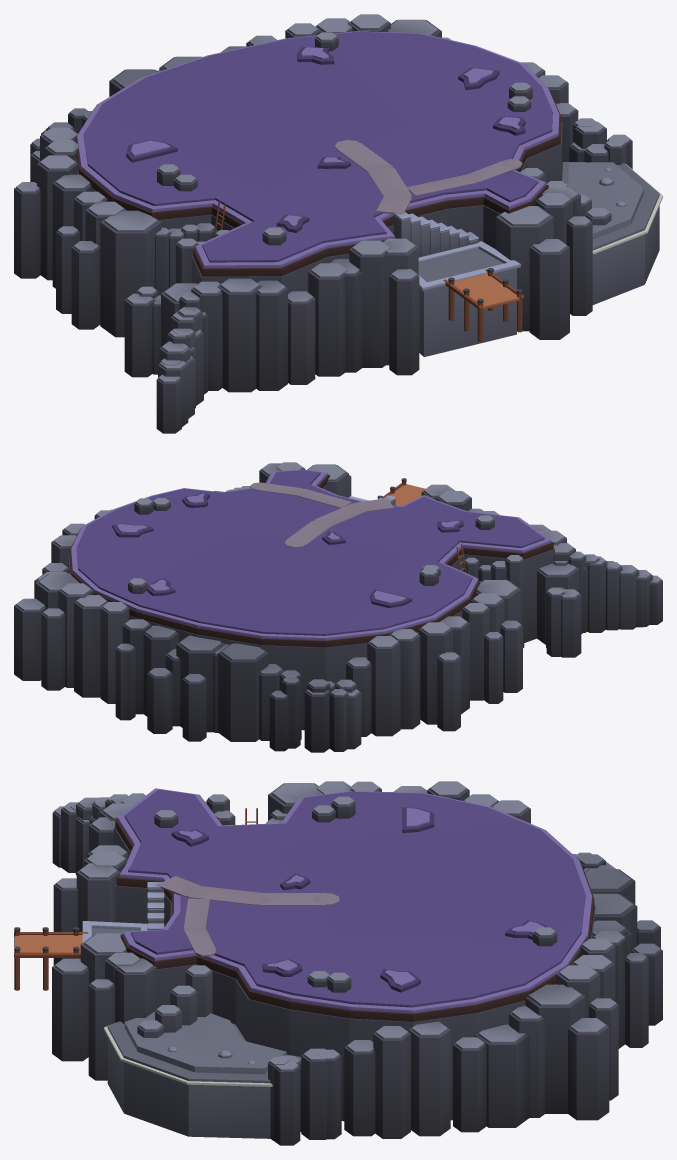
The model's file is smuggler-port-body.glb.
3 views of the same model, one above another, from view 1: azimuth 30°, elevation 25°; view 2: azimuth 150°, elevation 25°; view 3: azimuth 270°, elevation 25° (orthographic). The views are drawn at different scales.
Parts seen in each view (by area): view 1: body; view 2: body; view 3: body.
Boxes of the visible parts, left/top/right/bottom form: body: left=14, top=14, right=662, bottom=433; body: left=14, top=462, right=662, bottom=752; body: left=14, top=781, right=662, bottom=1145.
Bounding box in the file's own units: 31.06 × 6.55 × 29.63.
